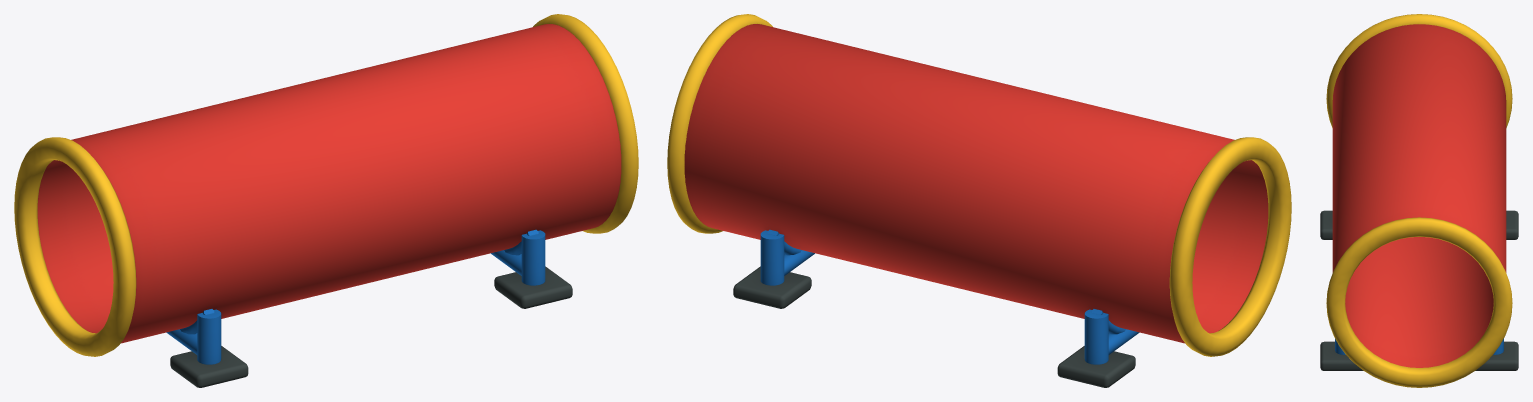
Rendered from crawl-tunnel.fbx.
The picture shows the model from 3 angles, left to right: view 1: azimuth 30°, elevation 25°; view 2: azimuth 150°, elevation 25°; view 3: azimuth 270°, elevation 25°; orthographic projection. The views are drawn at different scales.
Parts seen in each view (by area): view 1: crawl-tunnel; view 2: crawl-tunnel; view 3: crawl-tunnel.
Part boxes in pixels (box(x1,y1,x2,y2)): crawl-tunnel: box(14, 14, 638, 387); crawl-tunnel: box(667, 14, 1291, 387); crawl-tunnel: box(1320, 14, 1518, 387).
Bounding box in the file's own units: 40000 × 16000 × 16000.
Materials: 1 (1 with a texture image).
